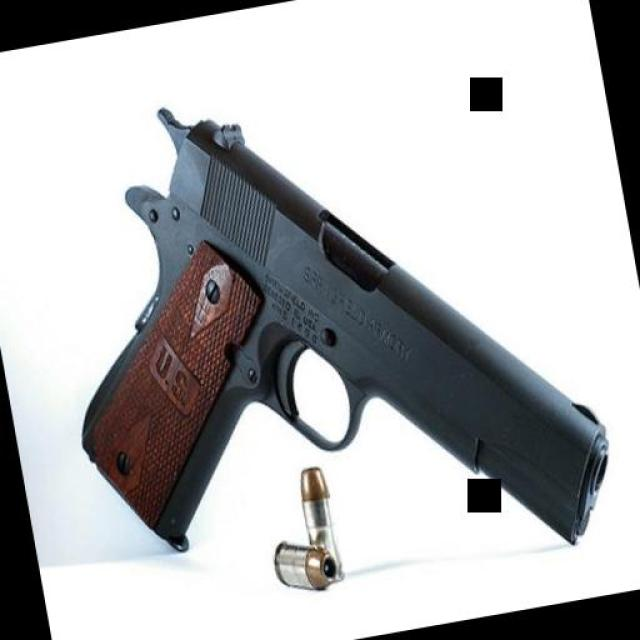gun: (20, 30, 624, 630)
